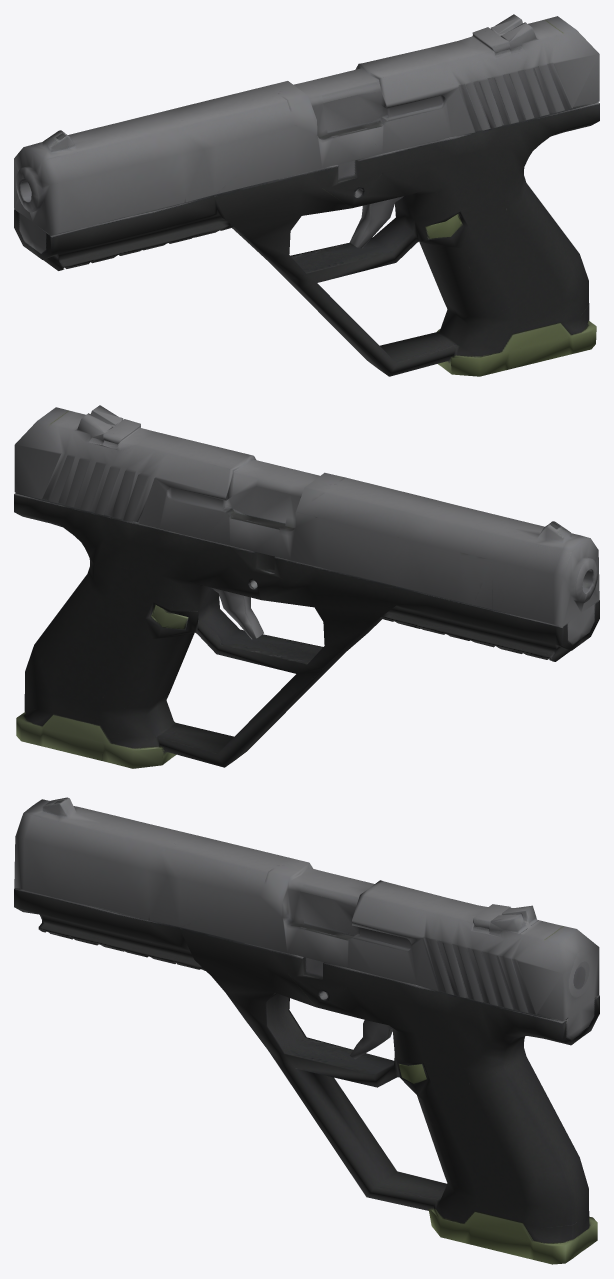
Rendered from pst_goliath.glb.
3 renders of one model, top to bottom at view 1: azimuth 30°, elevation 25°; view 2: azimuth 150°, elevation 25°; view 3: azimuth 330°, elevation 25°, orthographic.
Size of the model in its own units: 0.9575 by 0.5371 by 0.1206.
1 material, 1 textured.
